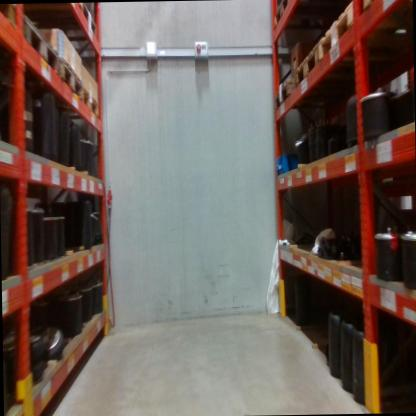pallet: (316, 0, 402, 75), (295, 37, 379, 92), (275, 76, 355, 116), (16, 59, 83, 105), (18, 4, 99, 42), (16, 89, 99, 124), (24, 13, 65, 73), (273, 1, 320, 29), (357, 0, 403, 8)
